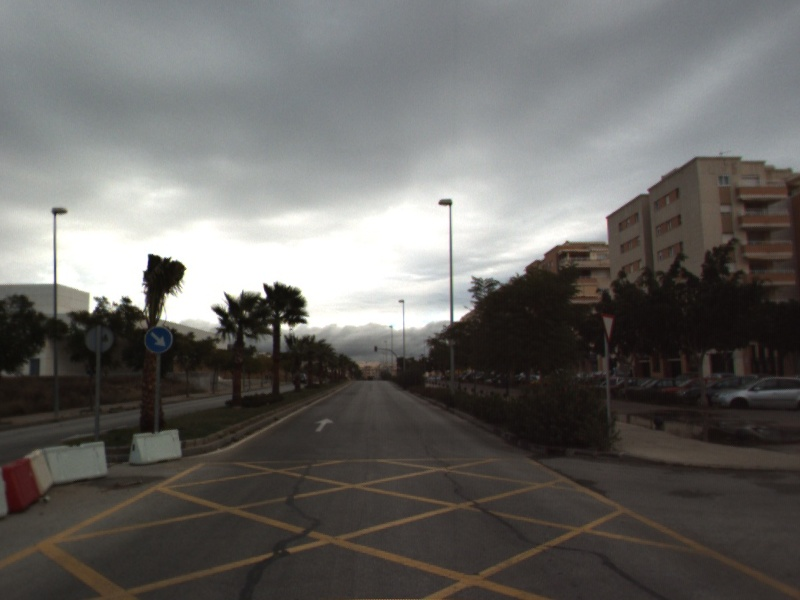STRAIGHT: (313, 416, 336, 433)
